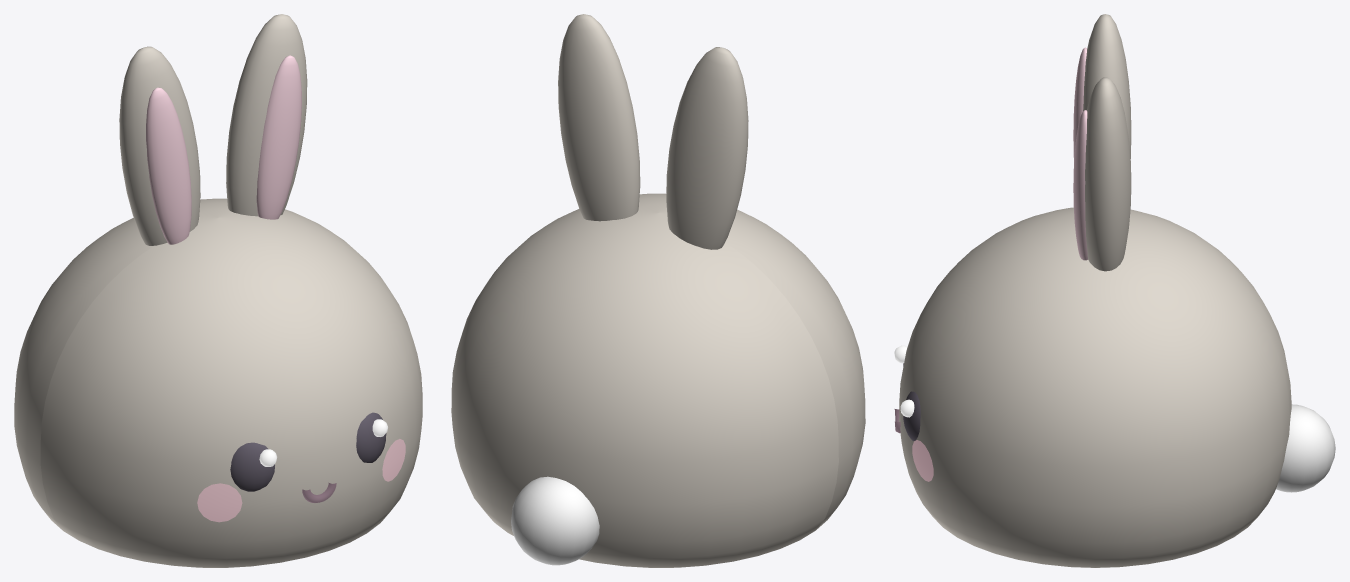
File: squishy_bunny.glb
The picture shows the model from 3 angles, left to right: view 1: azimuth 30°, elevation 25°; view 2: azimuth 150°, elevation 25°; view 3: azimuth 270°, elevation 25°; orthographic projection. The views are drawn at different scales.
Visible parts, largest first — view 1: Body, Part_2, Part_0, Part_1, Part_3, Part_5, Part_7, Part_8, Part_10; view 2: Body, Part_2, Part_0, Part_4; view 3: Body, Part_2, Part_4, Part_0, Part_3, Part_1, Part_10.
Boxes of the visible parts, x1,y1,x2,y2 form: Body: (14,198,422,567); Part_2: (226,14,307,216); Part_0: (119,46,200,245); Part_1: (146,87,191,244); Part_3: (256,55,301,219); Part_5: (230,442,274,491); Part_7: (197,483,242,522); Part_8: (356,412,386,462); Part_10: (382,439,405,481); Body: (451,193,865,567); Part_2: (558,14,640,221); Part_0: (666,47,748,249); Part_4: (511,476,599,565); Body: (899,207,1291,567); Part_2: (1085,77,1131,271); Part_4: (1276,404,1335,492); Part_0: (1083,14,1131,158); Part_3: (1073,110,1087,260); Part_1: (1073,47,1086,161); Part_10: (912,440,933,481).
Size of the model in its own units: 2 by 2.63 by 2.2.
